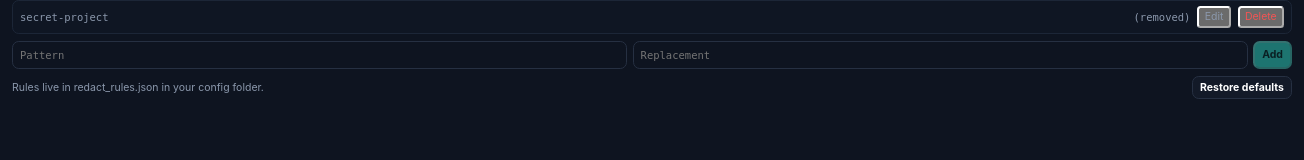
Test: RedactionSettings › edits a rule in place, keyed on the pattern it started from
The width and height of the screenshot is (1304, 160).
Check: the text "secret-project" is shown, box [20,11,108,23]
Click the button "Edit" at (1214, 17), box [1198,6,1231,28]
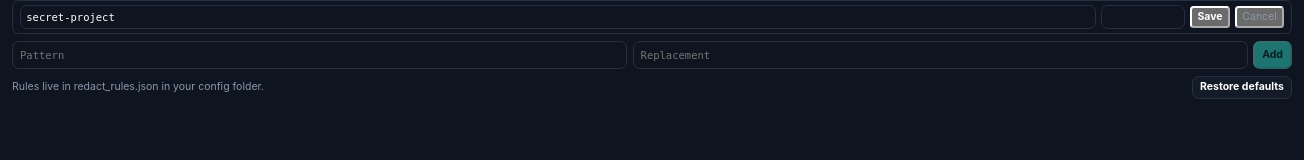
Replace the text in the field named "Edit pattern: secret-project" with "secret-project-v2" at (558, 17), box [20,4,1096,29]
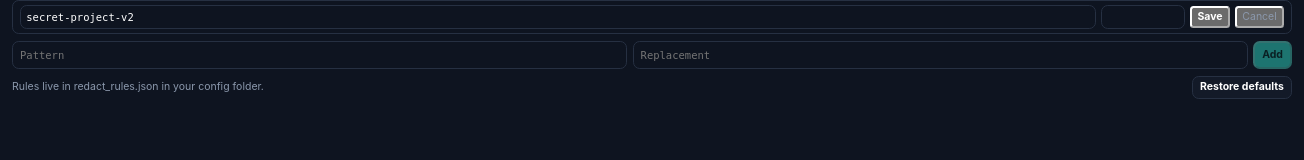
Click the button "Save" at (1210, 17), box [1190,6,1230,28]
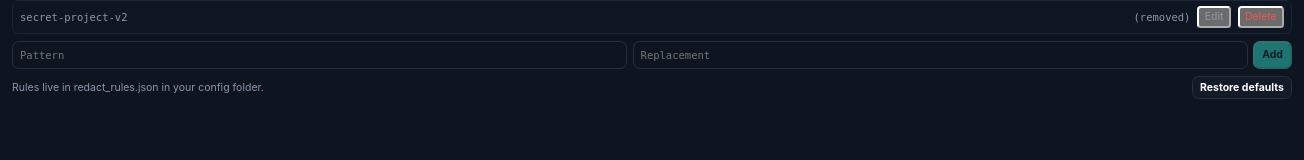
Check: the text "secret-project-v2" is shown, box [20,11,128,23]
